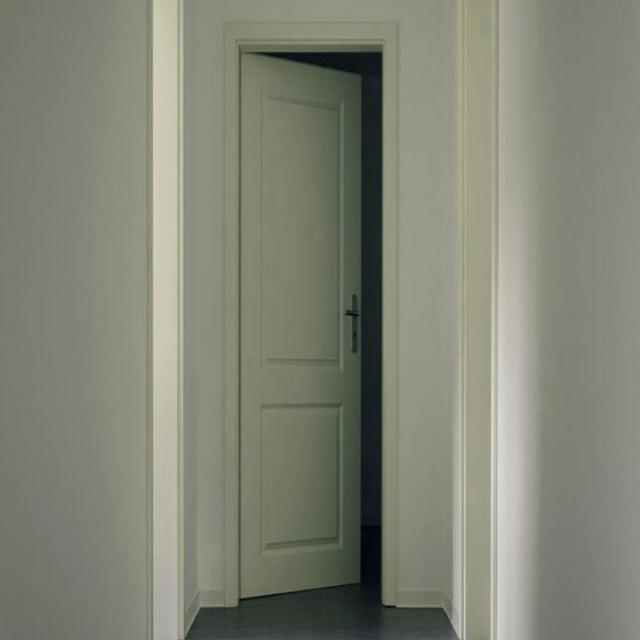door: (237, 52, 363, 599)
